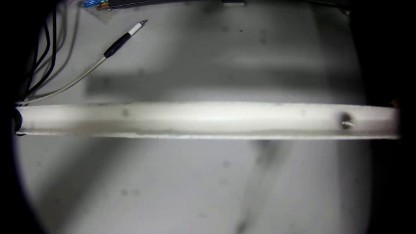gangzhu: (334, 112, 357, 132)
